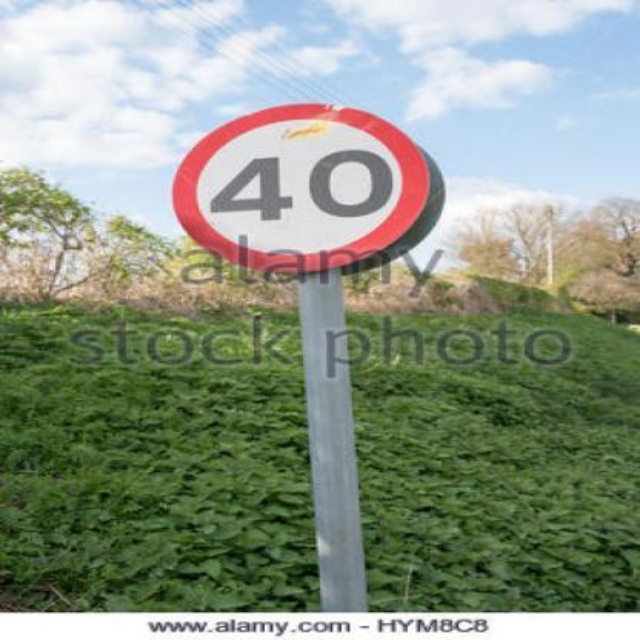Tốc độ tối đa cho phép 10km/h: (175, 103, 427, 268)
